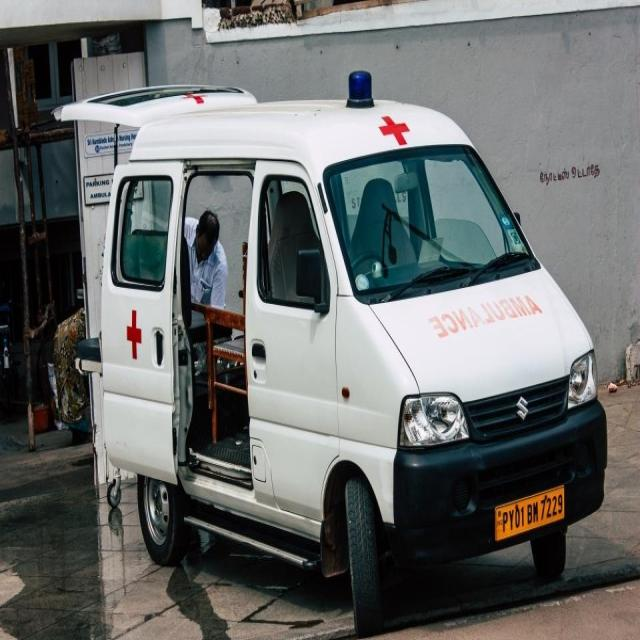ambulance: (71, 48, 605, 617)
